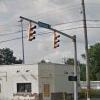Traffic light: (22, 15, 73, 52)
